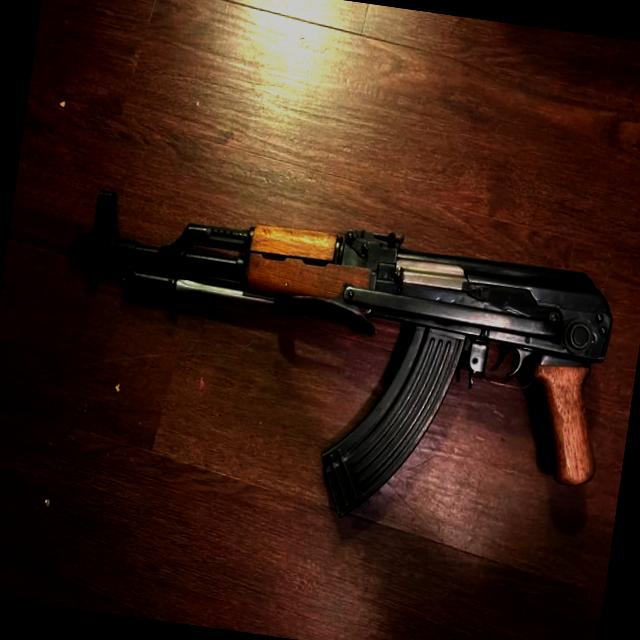ak: (28, 171, 628, 557)
